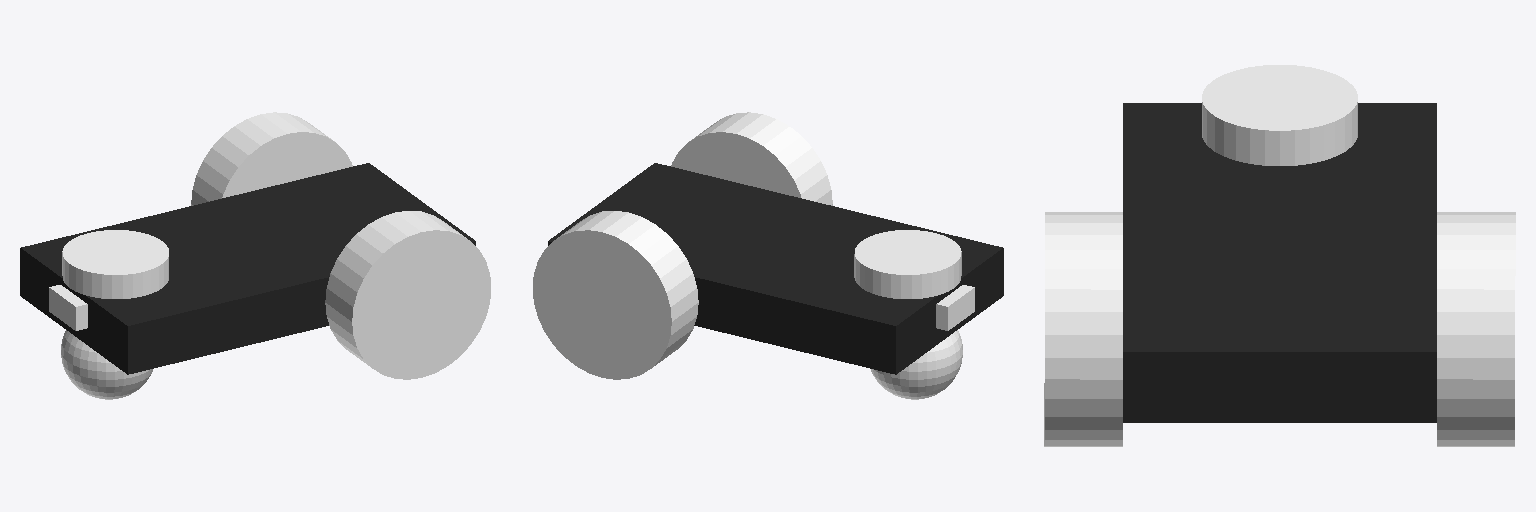
The robot description file, URDF, robot "dolly":
<?xml version="1.0" ?>
  <robot name="dolly">



  <link name="base">
    <visual>
      <geometry>
          <box size="0.75 0.4 0.1"/>
      </geometry>
      <material name="gray">
        <color rgba=".2 .2 .2 1" />
      </material>
    </visual>

    <inertial>
        <mass value="1" />
        <inertia ixx="0.01" ixy="0.0" ixz="0" iyy="0.01" iyz="0" izz="0.01" />
    </inertial>

    <collision>
      <geometry>
          <box size="0.75 0.4 0.1"/>
      </geometry>
    </collision>

  </link>






  <link name="wheel_right_link">
    <inertial>
            <mass value="2" />
            <inertia ixx="0.01" ixy="0.0" ixz="0"
            iyy="0.01" iyz="0" izz="0.01" />
    </inertial>

    <visual>
      <geometry>
          <cylinder radius="0.15" length="0.1"/>
      </geometry>
      <material name="white">
        <color rgba="1 1 1 1"/>
      </material>
    </visual>

    <collision>

      <geometry>
          <cylinder radius="0.15" length="0.1"/>
      </geometry>
      <contact_coefficients mu="1" kp="1e+13" kd="1.0"/>
    </collision>
  </link>

  <joint name="wheel_right_joint" type="continuous">
    <origin xyz="0.2 0.25 0.0" rpy="1.57 0.0 0.0"/>
    <parent link="base"/>
    <child link="wheel_right_link"/>
    <axis xyz="0.0 0.0 1.0"/>
  </joint>



  <link name="wheel_left_link">
    <inertial>
            <mass value="2" />
            <inertia ixx="0.01" ixy="0.0" ixz="0"
            iyy="0.01" iyz="0" izz="0.01" />
    </inertial>

    <visual>

      <geometry>
          <cylinder radius="0.15" length="0.1"/>
      </geometry>
      <material name="white">
        <color rgba="1 1 1 1"/>
      </material>
    </visual>

    <collision>
      <geometry>
          <cylinder radius="0.15" length="0.1"/>
      </geometry>
      <contact_coefficients mu="1" kp="1e+13" kd="1.0"/>
    </collision>
  </link>

  <joint name="wheel_left_joint" type="continuous">
    <origin xyz="0.2 -0.25 0.0" rpy="1.57 0.0 0.0"/>
    <parent link="base"/>
    <child link="wheel_left_link"/>
    <axis xyz="0.0 0.0 1.0"/>

  </joint>



  <link name="caster">
    <inertial>
            <mass value="1" />
            <inertia ixx="0.01" ixy="0.0" ixz="0"
            iyy="0.01" iyz="0" izz="0.01" />
    </inertial>

    <visual>

      <geometry>
        <sphere radius=".09" />
      </geometry>
      <material name="white" />
    </visual>

    <collision>
      <origin/>
      <geometry>
        <sphere radius=".09" />
      </geometry>
    </collision>
  </link>

  <joint name="caster_joint" type="continuous">
    <origin xyz="-0.3 0.0 -0.1" rpy="0.0 0.0 0.0"/>
    <axis xyz="0 0 1" />
    <parent link="base"/>
    <child link="caster"/>
  </joint>

  <link name="camera">
    <inertial>
            <mass value="0.1" />
            <inertia ixx="0.01" ixy="0.0" ixz="0"
            iyy="0.01" iyz="0" izz="0.01" />
    </inertial>

    <visual>

      <geometry>
        <box size="0.1 0.1 0.05"/>
      </geometry>
      <material name="white">
        <color rgba="1 1 1 1"/>
      </material>
    </visual>

    <collision>
      <geometry>
          <box size="0.1 0.1 0.05"/>
      </geometry>
    </collision>
  </link>

  <joint name="camera_joint" type="fixed">
    <origin xyz="-0.35 0 0.01" rpy="0 0.0 3.14"/>
    <parent link="base"/>
    <child link="camera"/>
    <axis xyz="0.0 0.0 1.0"/>

  </joint>

  <link name="lidar">
    <inertial>
            <mass value="0.5" />
            <inertia ixx="0.01" ixy="0.0" ixz="0"
            iyy="0.01" iyz="0" izz="0.01" />
    </inertial>

    <visual>

      <geometry>
        <cylinder radius="0.1" length="0.05"/>
      </geometry>
      <material name="white">
        <color rgba="1 1 1 1"/>
      </material>
    </visual>

    <collision>
      <geometry>
          <box size="0.1 0.1 0.1"/>
      </geometry>
    </collision>
  </link>

  <joint name="lidar_joint" type="fixed">
    <origin xyz="-0.285 0 0.075" rpy="0 0.0 1.57"/>
    <parent link="base"/>
    <child link="lidar"/>
    <axis xyz="0.0 0.0 1.0"/>

  </joint>


  <gazebo>
    <plugin filename="gz-sim-diff-drive-system" name="gz::sim::systems::DiffDrive">
      <left_joint>wheel_left_joint</left_joint>
      <right_joint>wheel_right_joint</right_joint>
      <wheel_separation>0.5</wheel_separation>
      <wheel_radius>0.15</wheel_radius>
      <max_linear_acceleration>0.7</max_linear_acceleration>
      <topic>/cmd_vel</topic>
      <odom_topic>/odom</odom_topic>
      <tf_topic>/tf</tf_topic>
      <frame_id>odom</frame_id>
      <child_frame_id>base</child_frame_id>
      <odom_publish_frequency>30</odom_publish_frequency>
    </plugin>
  </gazebo>

  <!-- Camera Sensor -->

  <gazebo reference="camera">
    <sensor type="depth" name="front_camera">
      <update_rate>30.0</update_rate>
      <topic>/camera/image_raw</topic>
      <visualize>true</visualize>
      <camera name="head">
        <horizontal_fov>1.3962634</horizontal_fov>
        <image>
          <width>800</width>
          <height>800</height>
          <format>R8G8B8</format>
        </image>
        <clip>
          <near>0.02</near>
          <far>300</far>
        </clip>
        <noise>
          <type>gaussian</type>
          <!-- Noise is sampled independently per pixel on each frame.
               That pixel's noise value is added to each of its color
               channels, which at that point lie in the range [0,1]. -->
          <mean>0.0</mean>
          <stddev>0.007</stddev>
        </noise>
      </camera>
    </sensor>
  </gazebo>

<!-- Lidar Sensor -->
  <gazebo reference="lidar">
    <sensor type="gpu_ray" name="diffbot_lidar">
      <pose>0 0 0 0 0 0</pose>
      <topic>/scan</topic>
      <visualize>false</visualize>
      <update_rate>40</update_rate>
      <ray>
        <scan>
          <horizontal>
            <samples>720</samples>
            <resolution>1</resolution>
            <min_angle>-1.570796</min_angle>
            <max_angle>1.570796</max_angle>
          </horizontal>
        </scan>
        <range>
          <min>0.10</min>
          <max>30.0</max>
          <resolution>0.01</resolution>
        </range>
        <noise>
          <type>gaussian</type>
          <!-- Noise parameters based on published spec for Hokuyo laser
               achieving "+-30mm" accuracy at range < 10m.  A mean of 0.0m and
               stddev of 0.01m will put 99.7% of samples within 0.03m of the true
               reading. -->
          <mean>0.0</mean>
          <stddev>0.01</stddev>
        </noise>
      </ray>
    </sensor>
  </gazebo>


</robot>

--- Render facts (derived) ---
The picture shows the robot from 3 angles, left to right: view 1: azimuth 30°, elevation 25°; view 2: azimuth 150°, elevation 25°; view 3: azimuth 270°, elevation 25°; orthographic projection.
Robot: dolly — 6 links, 5 joints (3 continuous, 2 fixed); root link base; default pose: all joints at 0.
Visible links, largest first — view 1: base, wheel_left_link, wheel_right_link, lidar, caster, camera; view 2: base, wheel_right_link, wheel_left_link, lidar, caster, camera; view 3: base, wheel_right_link, wheel_left_link, lidar.
Boxes of the visible links, box(x1,y1,x2,y2) form: base: box(20, 163, 475, 374); wheel_left_link: box(325, 211, 490, 379); wheel_right_link: box(191, 112, 352, 205); lidar: box(62, 230, 168, 298); caster: box(61, 330, 152, 399); camera: box(49, 285, 87, 330); base: box(548, 163, 1003, 374); wheel_right_link: box(533, 211, 698, 379); wheel_left_link: box(671, 112, 832, 205); lidar: box(854, 230, 961, 298); caster: box(871, 330, 962, 399); camera: box(936, 285, 974, 330); base: box(1123, 103, 1436, 422); wheel_right_link: box(1437, 212, 1515, 446); wheel_left_link: box(1044, 212, 1122, 446); lidar: box(1202, 65, 1357, 165).
Bounding box of the posed robot: 0.7751 × 0.6002 × 0.34 m (x, y, z).
Geometry: primitives only (box / cylinder / sphere), no mesh files.
